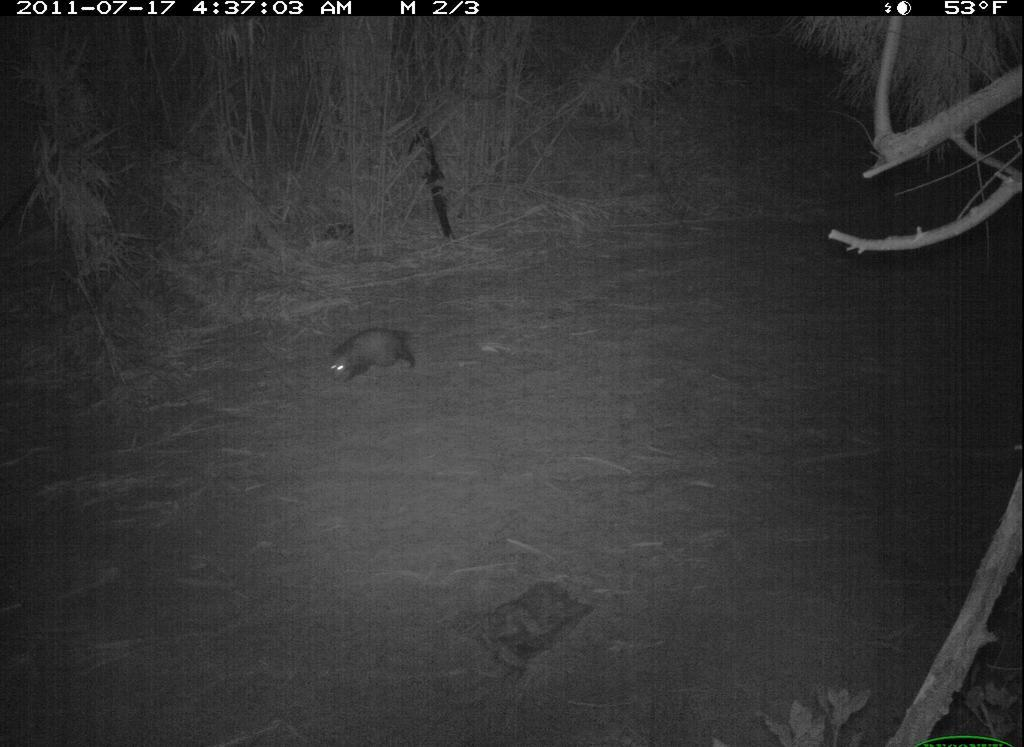opossum: (323, 327, 419, 387)
